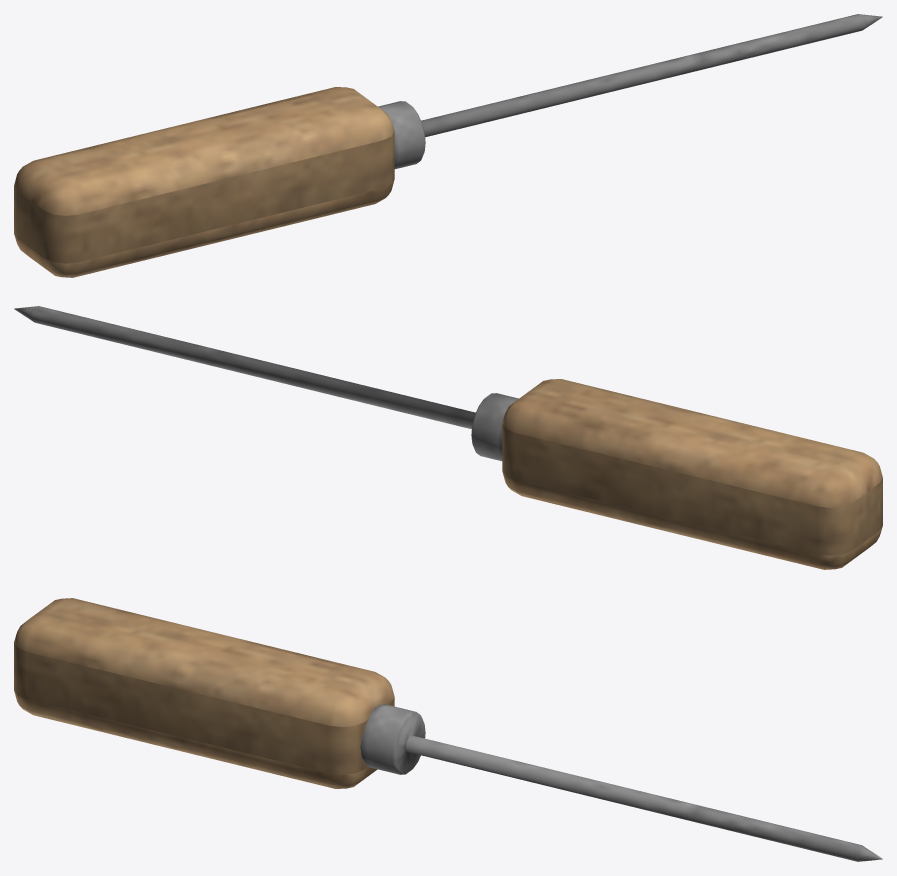
Rendered from fe9d0c38-becf-469a-bdc6-ffd03c604d34.glb.
3 views of the same model, one above another, from view 1: azimuth 30°, elevation 25°; view 2: azimuth 150°, elevation 25°; view 3: azimuth 330°, elevation 25° (orthographic).
Visible parts, largest first — view 1: Cube; view 2: Cube; view 3: Cube.
Part boxes in pixels (x1,y1,x2,y2): Cube: (14,14,882,277); Cube: (14,306,882,569); Cube: (14,598,882,861).
Size of the model in its own units: 0.3357 by 0.0357 by 0.0357.
Materials: 1 (1 with a texture image).
